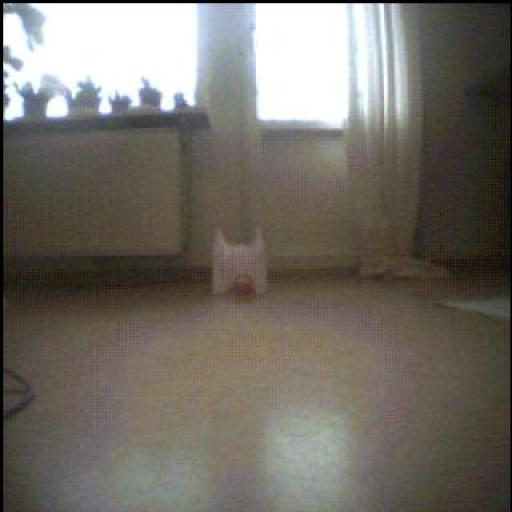Basket: (233, 275, 255, 296)
